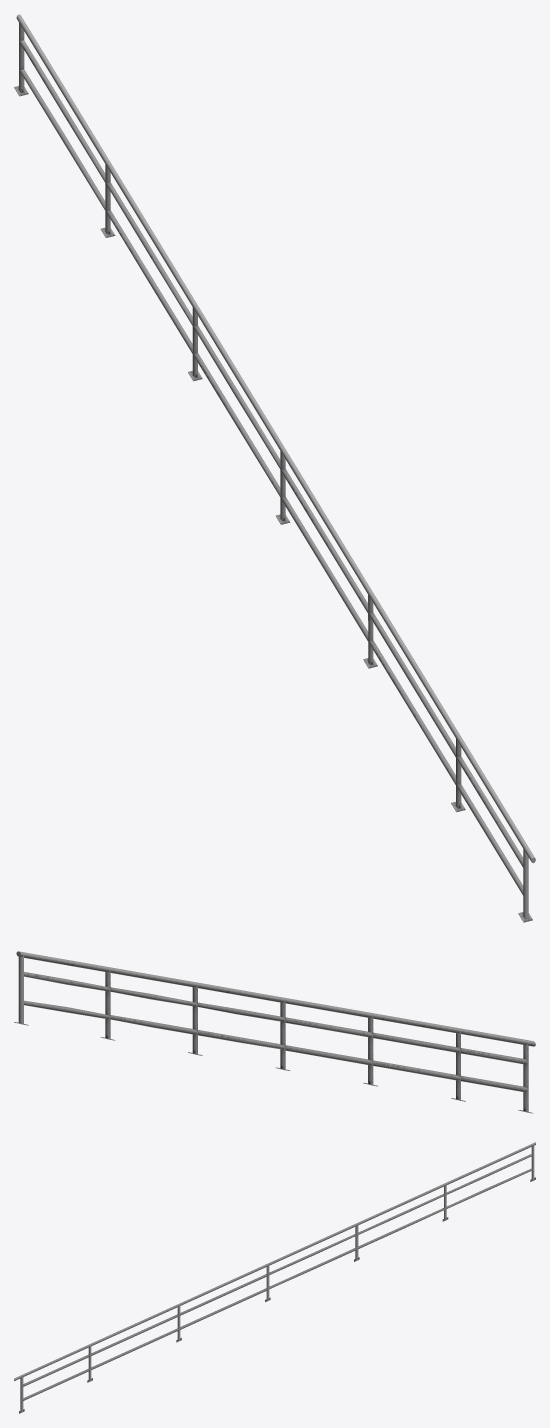
3 renders of one model, top to bottom at view 1: azimuth 30°, elevation 25°; view 2: azimuth 150°, elevation 25°; view 3: azimuth 270°, elevation 25°, orthographic. The views are drawn at different scales.
Parts seen in each view (by area): view 1: body0_model0_lod0_mesh0; view 2: body0_model0_lod0_mesh0; view 3: body0_model0_lod0_mesh0.
Part boxes in pixels (x1,y1,x2,y2): body0_model0_lod0_mesh0: (14, 14, 535, 922); body0_model0_lod0_mesh0: (14, 951, 535, 1113); body0_model0_lod0_mesh0: (14, 1142, 535, 1413).
Bounding box in the file's own units: 3.9 × 215 × 376.
Materials: 1 (1 with a texture image).
